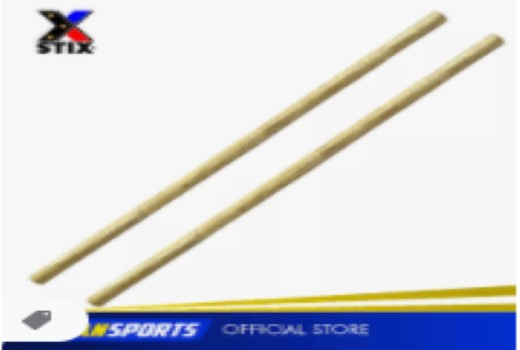baston_e: (100, 31, 490, 306), (39, 9, 429, 283)
baston_v: (23, 269, 45, 290), (429, 4, 449, 24), (489, 29, 507, 48), (83, 293, 103, 310)
